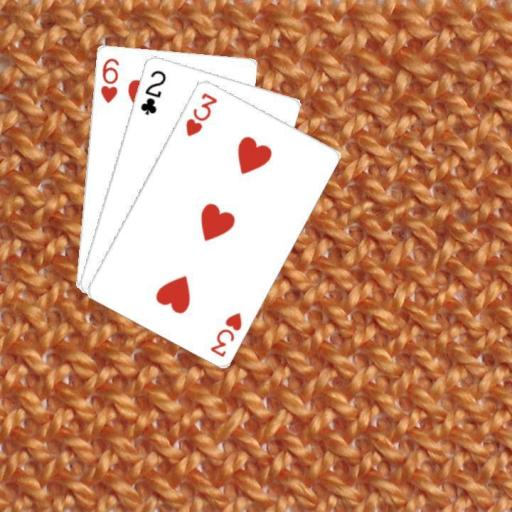card-corner: (206, 308, 243, 358), (182, 89, 219, 138), (137, 66, 167, 116), (97, 54, 120, 104)
